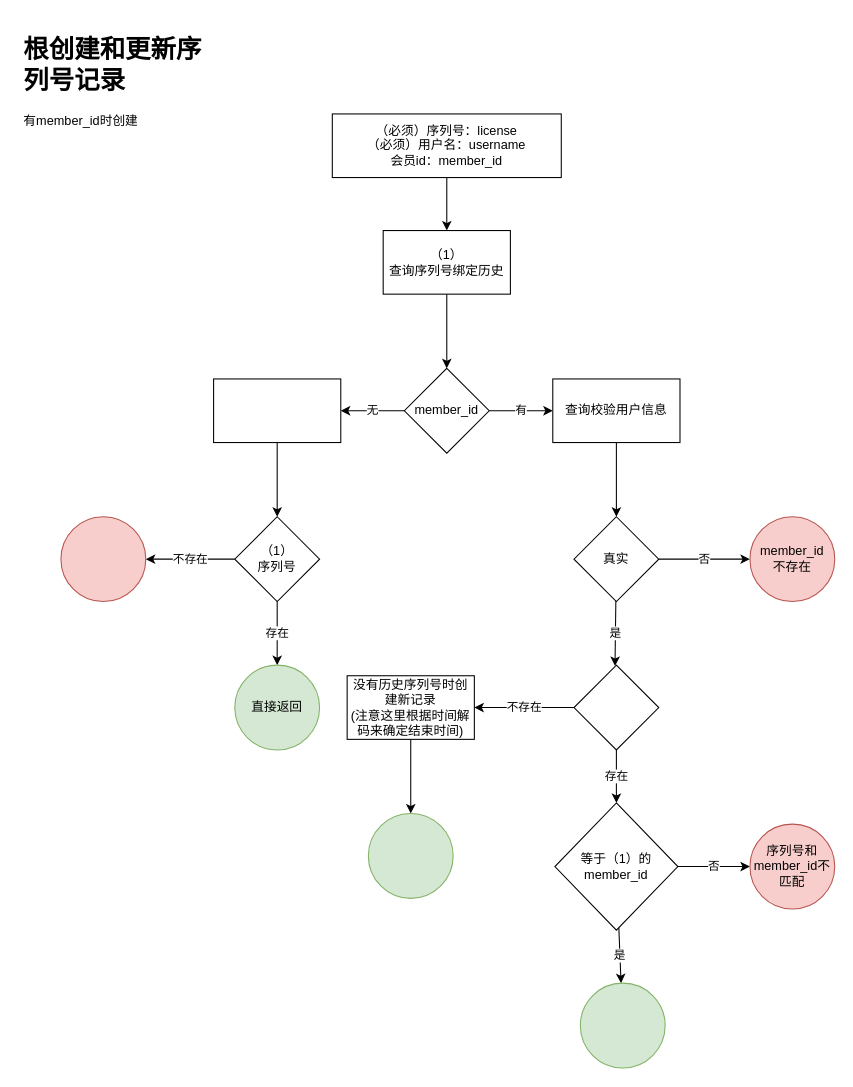
Some shapes in this 853 by 1087 pixel diagram are drawn without their labels. The shapes that lost their labels are listed below. From the top down, each one's centre as x and y in pixels, then its label:
the point at 277,410: 查询
the point at 103,559: error 序列号不存在
the point at 616,707: （1） member_id
the point at 410,855: 成功
the point at 622,1025: 返回并更新（1）
